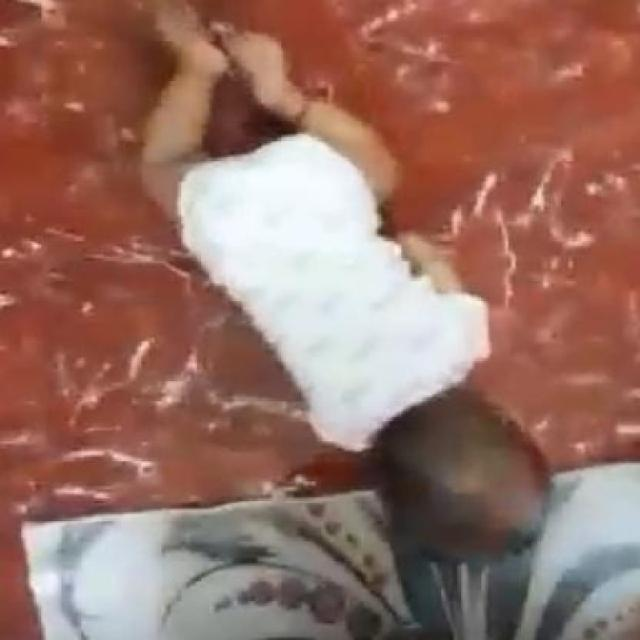baby: (131, 20, 551, 566)
